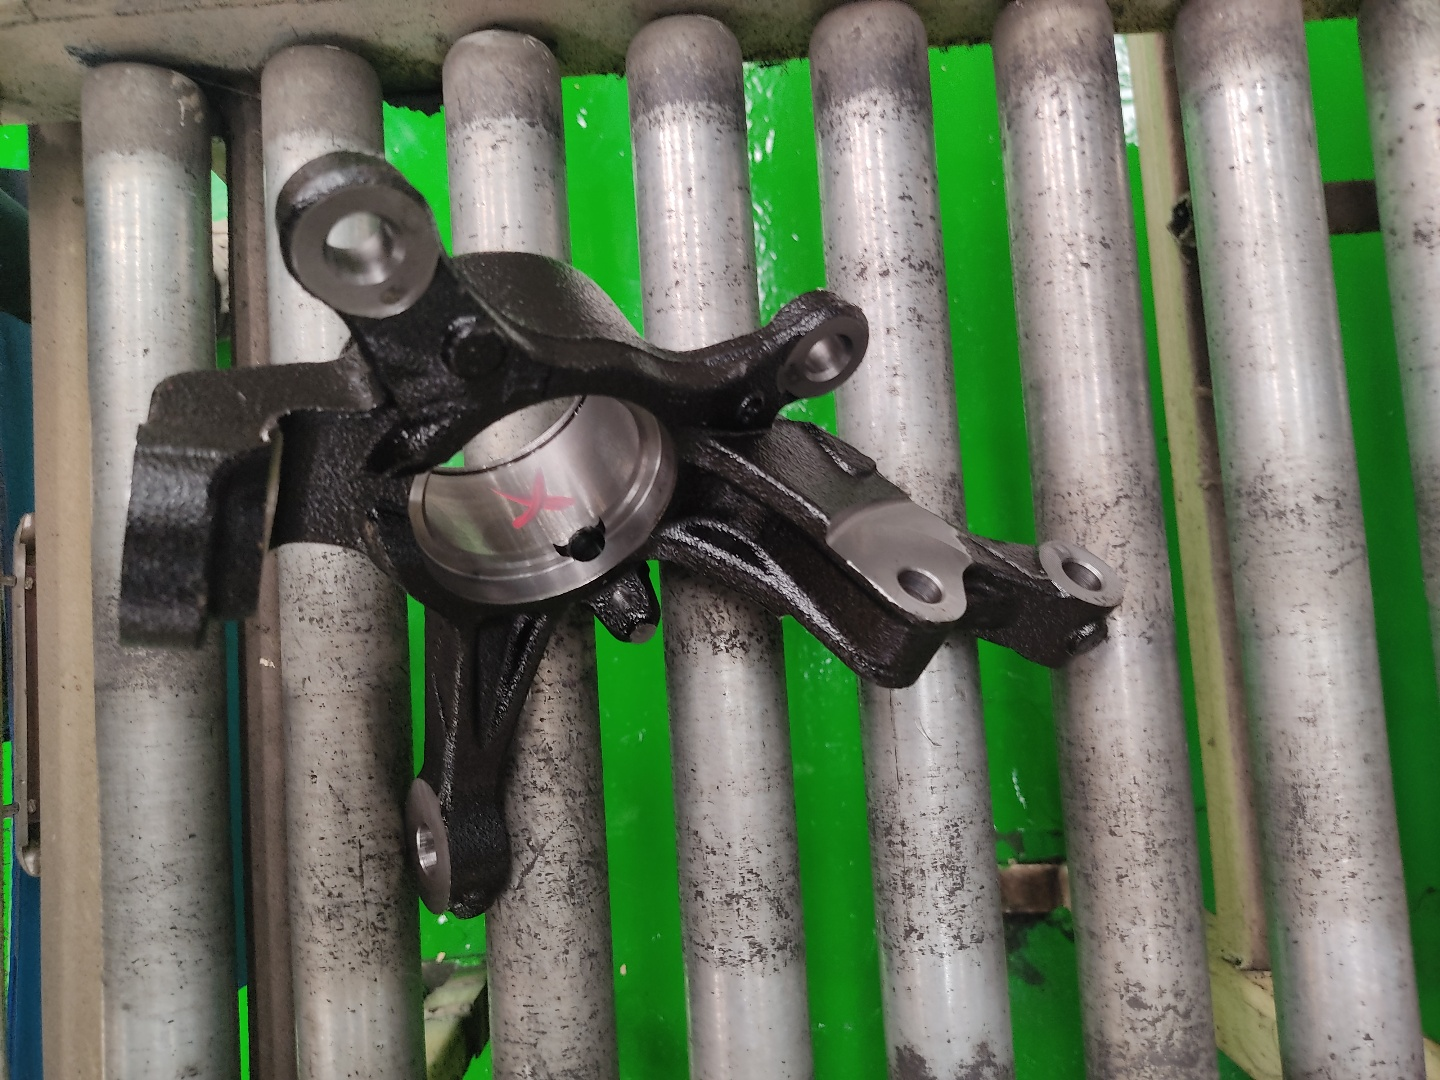abs-rh: (102, 140, 1136, 933)
